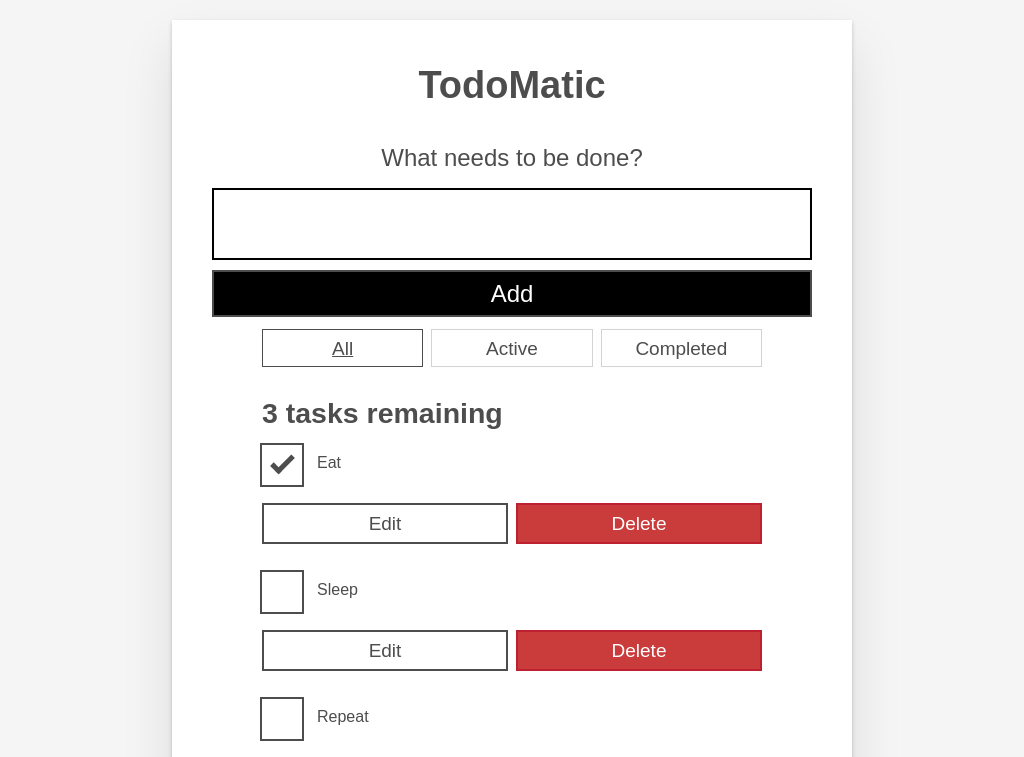
Test case: example to-do app › can check off an item as completed
Click the button "Completed": (682, 349) x1=601 y1=329 x2=762 y2=368
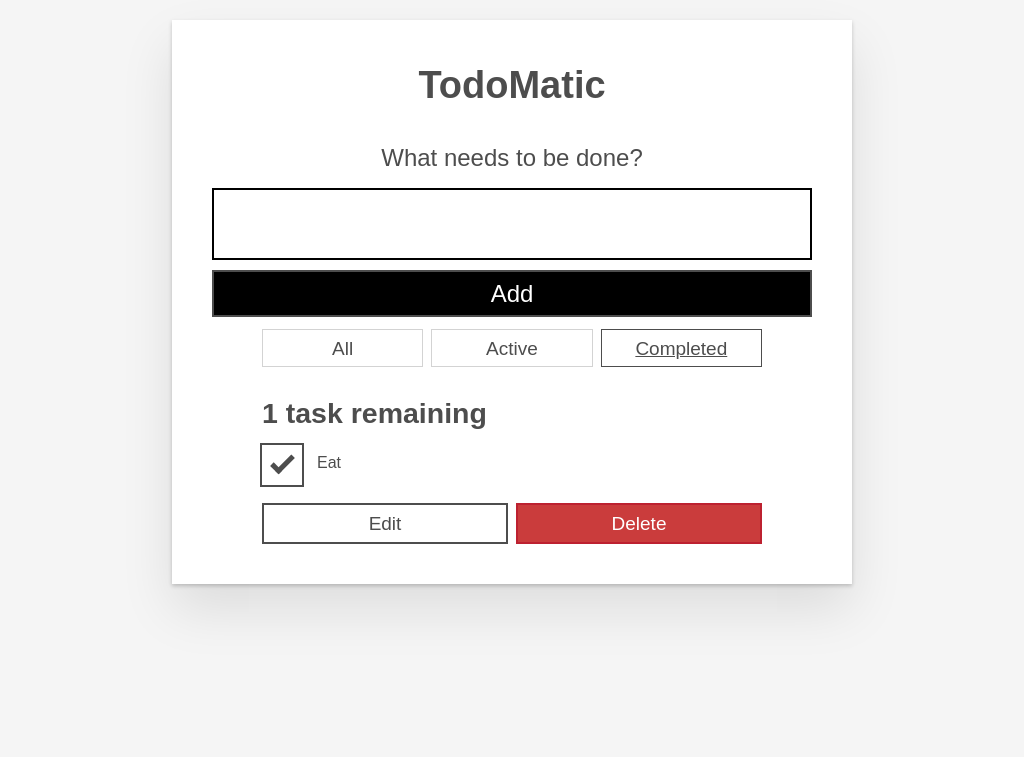
Check: the number of list items is 1, box x1=262 y1=445 x2=762 y2=544
Check: the checkbox "Sleep" is gone
Check: the checkbox "Repeat" is gone
